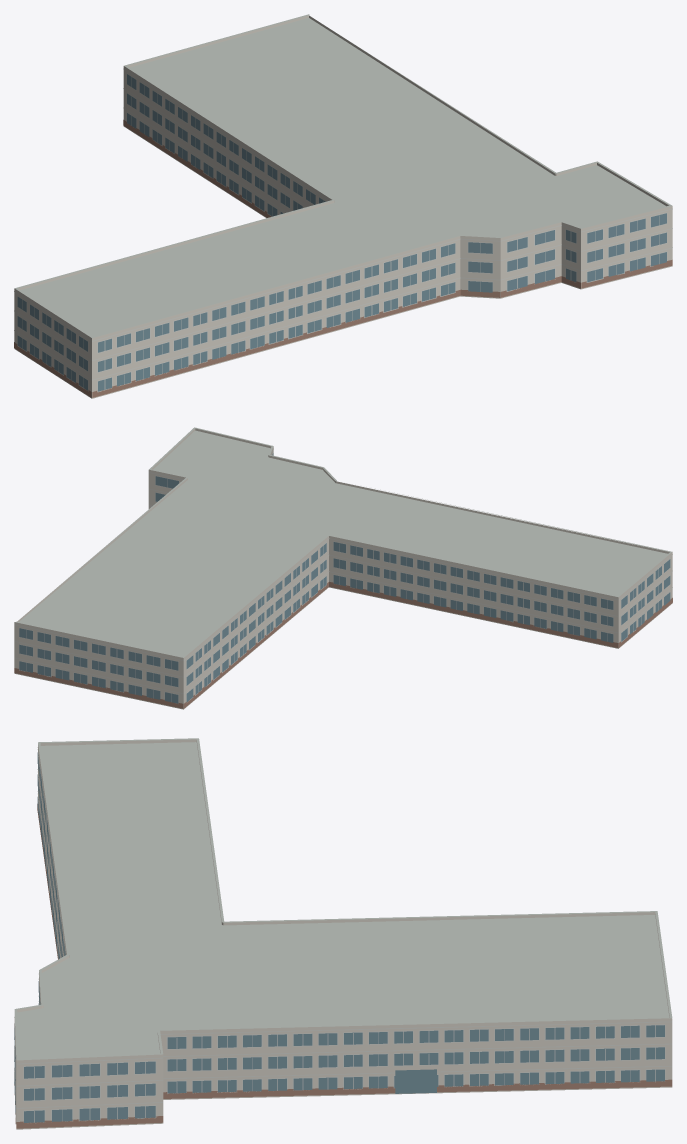
Rendered from public-7d3b2b2b-0a06-49f6-979f-359ea83330f9.glb.
3 views of the same model, one above another, from view 1: azimuth 30°, elevation 25°; view 2: azimuth 150°, elevation 25°; view 3: azimuth 270°, elevation 25° (orthographic). The views are drawn at different scales.
Visible parts, largest first — view 1: public-7d3b2b2b-0a06-49f6-979f-359ea83330f9; view 2: public-7d3b2b2b-0a06-49f6-979f-359ea83330f9; view 3: public-7d3b2b2b-0a06-49f6-979f-359ea83330f9.
Part boxes in pixels (box(x1,y1,x2,y2)): public-7d3b2b2b-0a06-49f6-979f-359ea83330f9: box(14, 14, 672, 398); public-7d3b2b2b-0a06-49f6-979f-359ea83330f9: box(14, 427, 672, 709); public-7d3b2b2b-0a06-49f6-979f-359ea83330f9: box(14, 738, 672, 1129).
Bounding box in the file's own units: 91.37 × 9.15 × 78.85.
